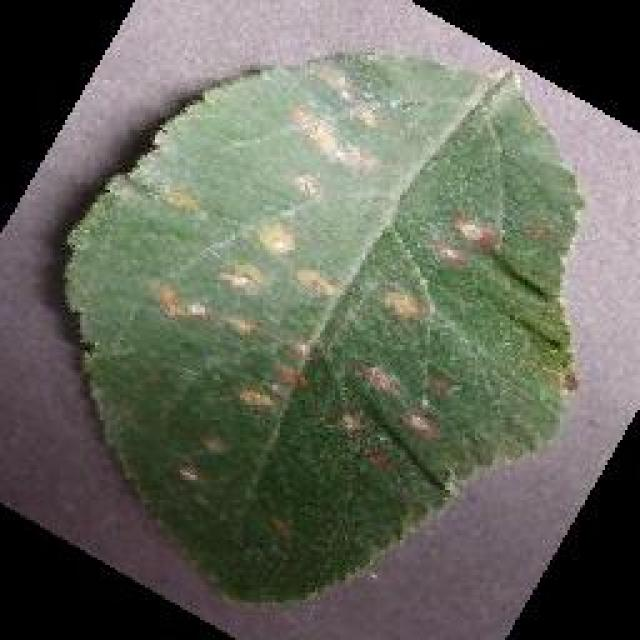apple cedar apple rust: (57, 48, 585, 608)
